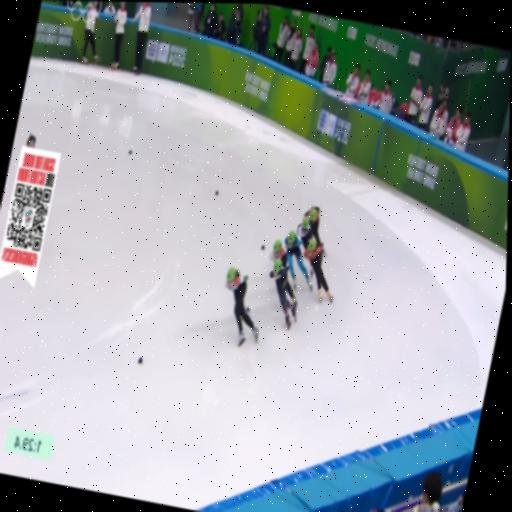Skater: (226, 267, 257, 346), (269, 259, 295, 329), (304, 238, 331, 302), (284, 231, 311, 290), (303, 207, 321, 243), (268, 240, 286, 266), (309, 268, 312, 277)
